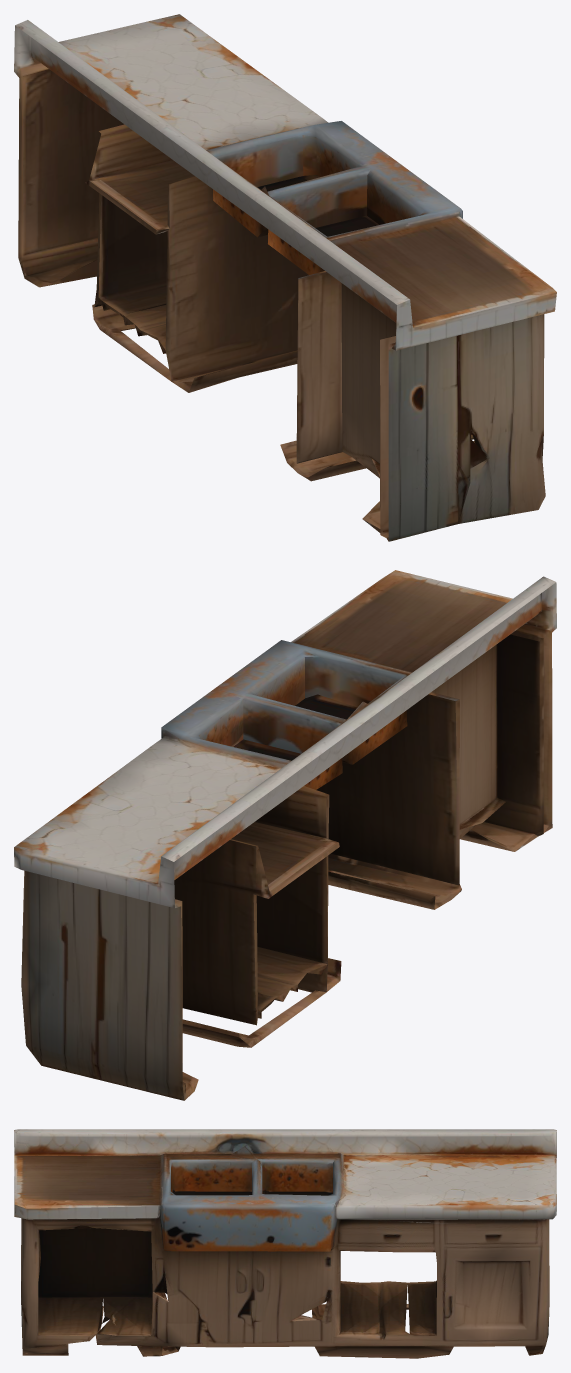
3 renders of one model, top to bottom at view 1: azimuth 30°, elevation 25°; view 2: azimuth 150°, elevation 25°; view 3: azimuth 270°, elevation 25°, orthographic. The views are drawn at different scales.
Parts seen in each view (by area): view 1: world; view 2: world; view 3: world.
Part boxes in pixels (box(x1,y1,x2,y2)): world: box(14, 14, 556, 541); world: box(14, 570, 556, 1100); world: box(14, 1129, 556, 1358).
Bounding box in the file's own units: 0.556 × 0.7182 × 1.99.
1 material, 1 textured.
